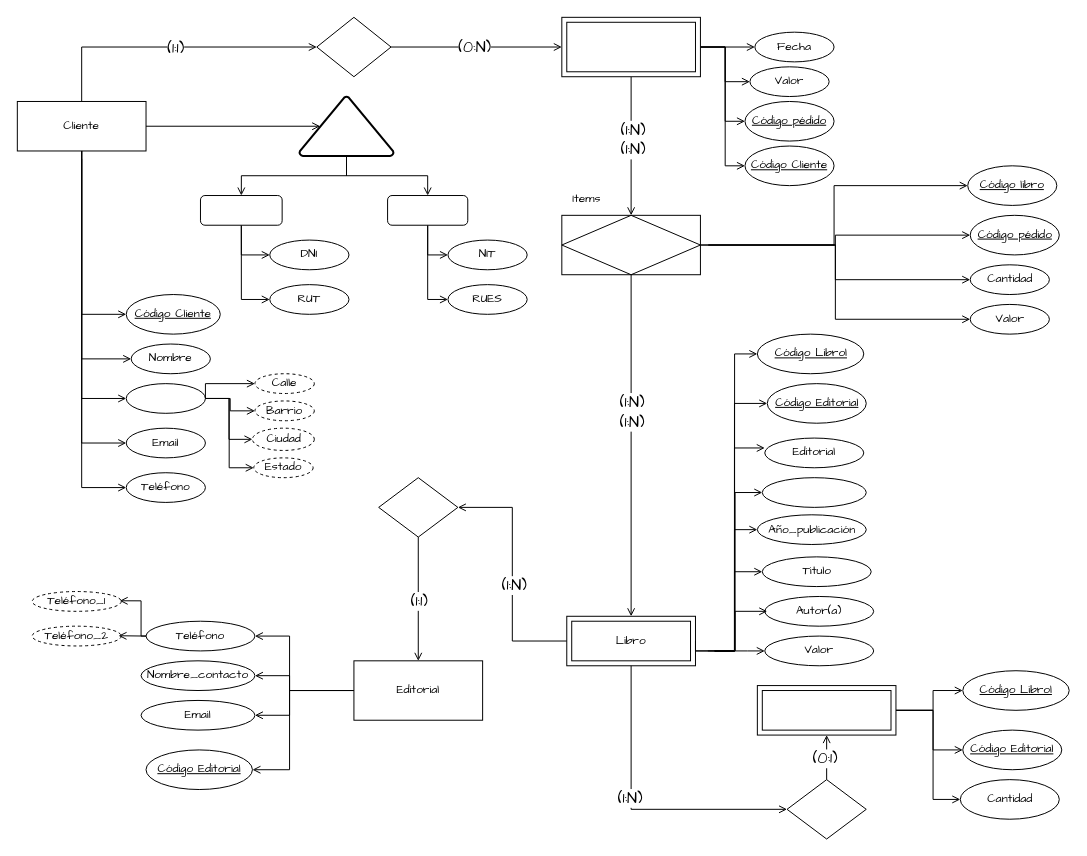
This 1087x856 diagram has some shape labels left out. The box of each missing label's shape, as (x1, y1, x2, y2) in pixels:
Contiene: (561, 214, 700, 275)
Dirección: (125, 383, 205, 413)
Existe: (786, 779, 866, 839)
iD: (298, 95, 394, 156)
inventario: (756, 685, 896, 735)
ISBN: (761, 477, 866, 507)
Pedido: (561, 16, 700, 77)
Pertenece: (378, 477, 458, 537)
PJ: (387, 195, 468, 225)
PN: (199, 195, 282, 225)
Realiza compra: (316, 16, 391, 77)
